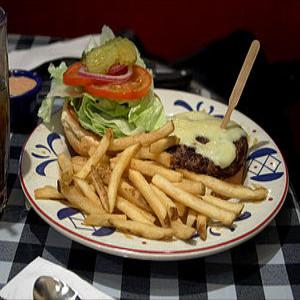fries_350cal: (51, 137, 270, 244)
